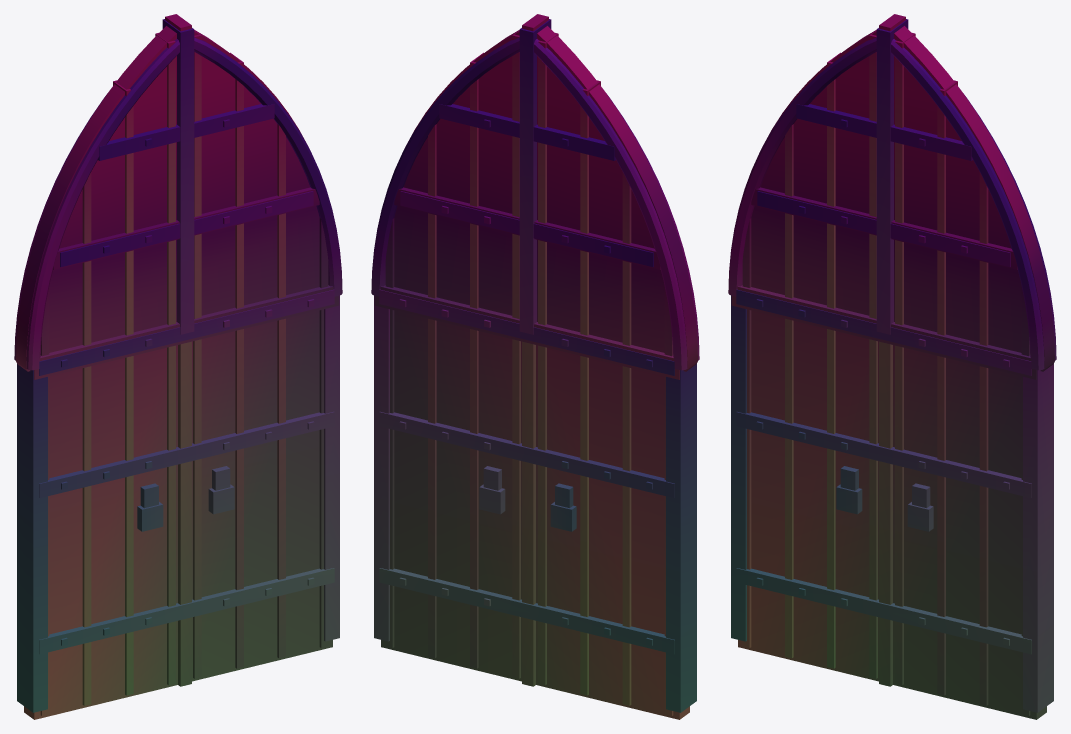
Rendered from door_leaf.glb.
3 renders of one model, left to right at view 1: azimuth 30°, elevation 25°; view 2: azimuth 150°, elevation 25°; view 3: azimuth 330°, elevation 25°, orthographic.
Visible parts, largest first — view 1: door_oak, door_bands, door_arch_iron; view 2: door_oak, door_bands, door_arch_iron; view 3: door_oak, door_bands, door_arch_iron.
Boxes of the visible parts, x1,y1,x2,y2 form: door_oak: [16, 14, 339, 719]; door_bands: [17, 19, 339, 712]; door_arch_iron: [14, 37, 342, 370]; door_oak: [374, 14, 697, 719]; door_bands: [374, 19, 696, 712]; door_arch_iron: [371, 37, 699, 370]; door_oak: [731, 14, 1054, 719]; door_bands: [731, 19, 1053, 712]; door_arch_iron: [728, 37, 1056, 370].
Size of the model in its own units: 1.94 by 3.88 by 0.21.
